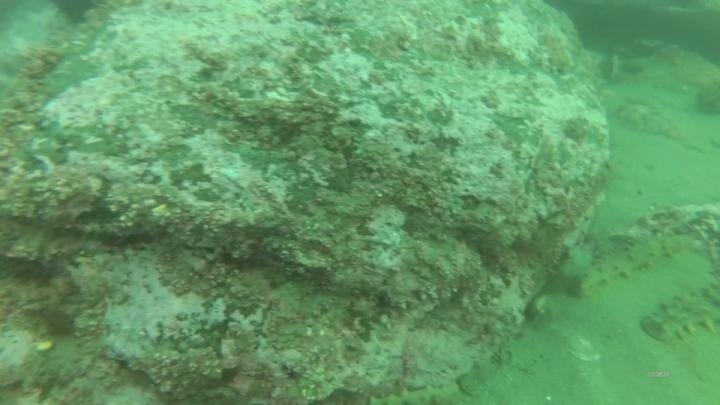echinus: (49, 0, 102, 27)
holothurian: (571, 229, 697, 298), (638, 278, 720, 346)
